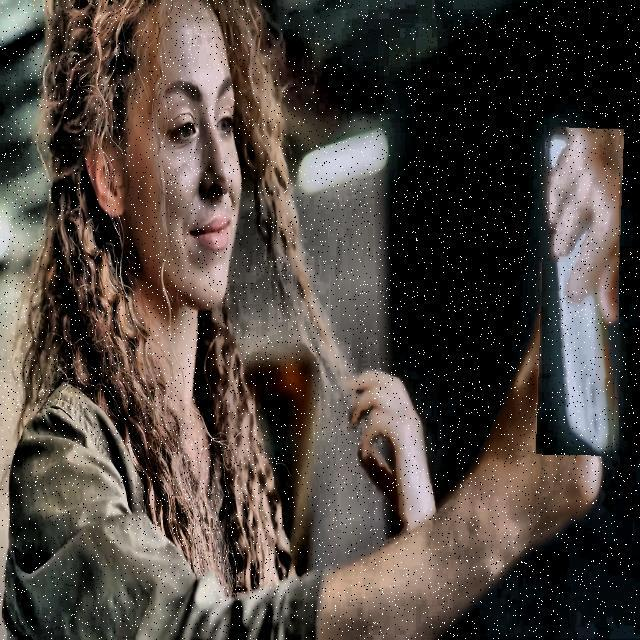Phone: (538, 127, 622, 456)
